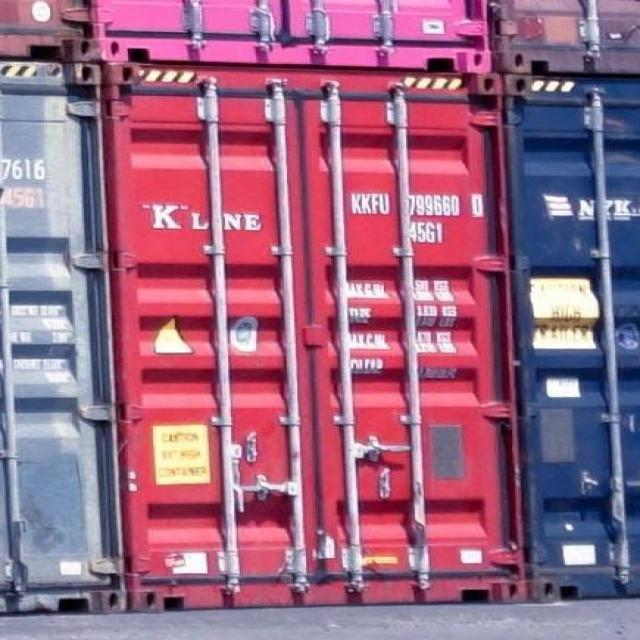ISO: (408, 222, 444, 245)
container_number: (352, 194, 485, 217)
